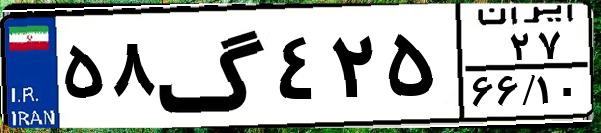0: (560, 70, 590, 125)
1: (535, 70, 560, 125)
2: (330, 28, 385, 110), (508, 27, 537, 80)
4: (270, 28, 330, 110)
5: (385, 28, 445, 110), (57, 26, 110, 100)
6: (470, 70, 495, 125), (495, 70, 520, 125)
7: (537, 27, 568, 80)
8: (110, 28, 156, 98)
گ: (156, 12, 270, 120)
